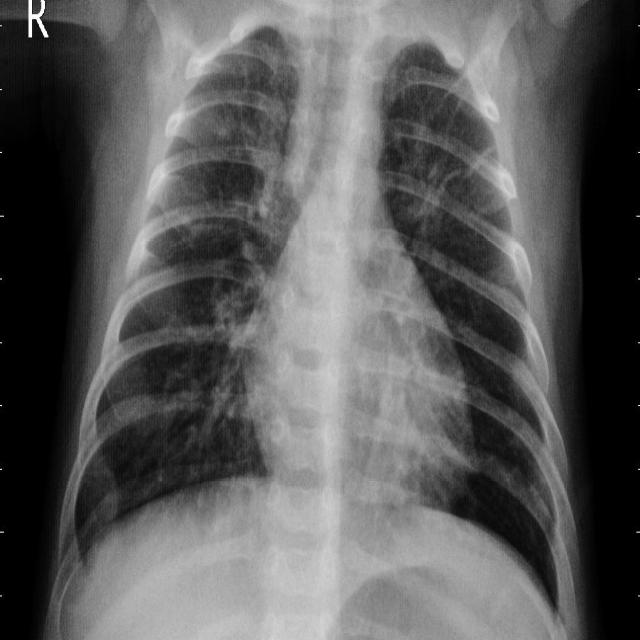low-pneumonia: (245, 94, 295, 238)
